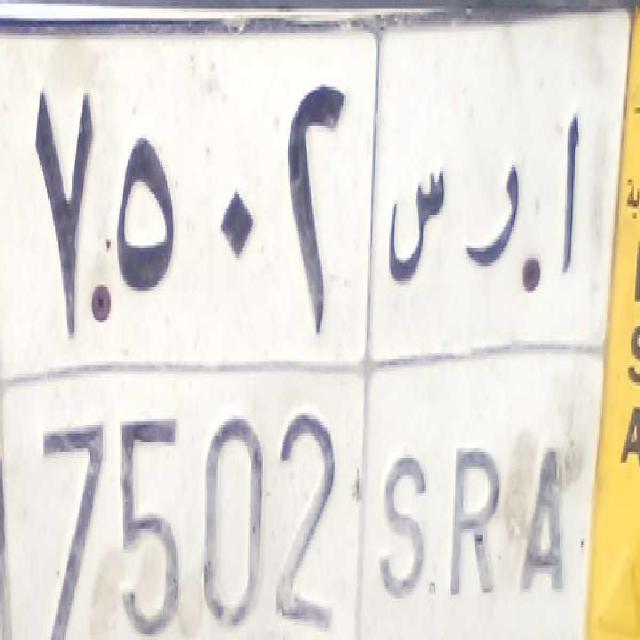license_plate: (0, 361, 595, 639)
